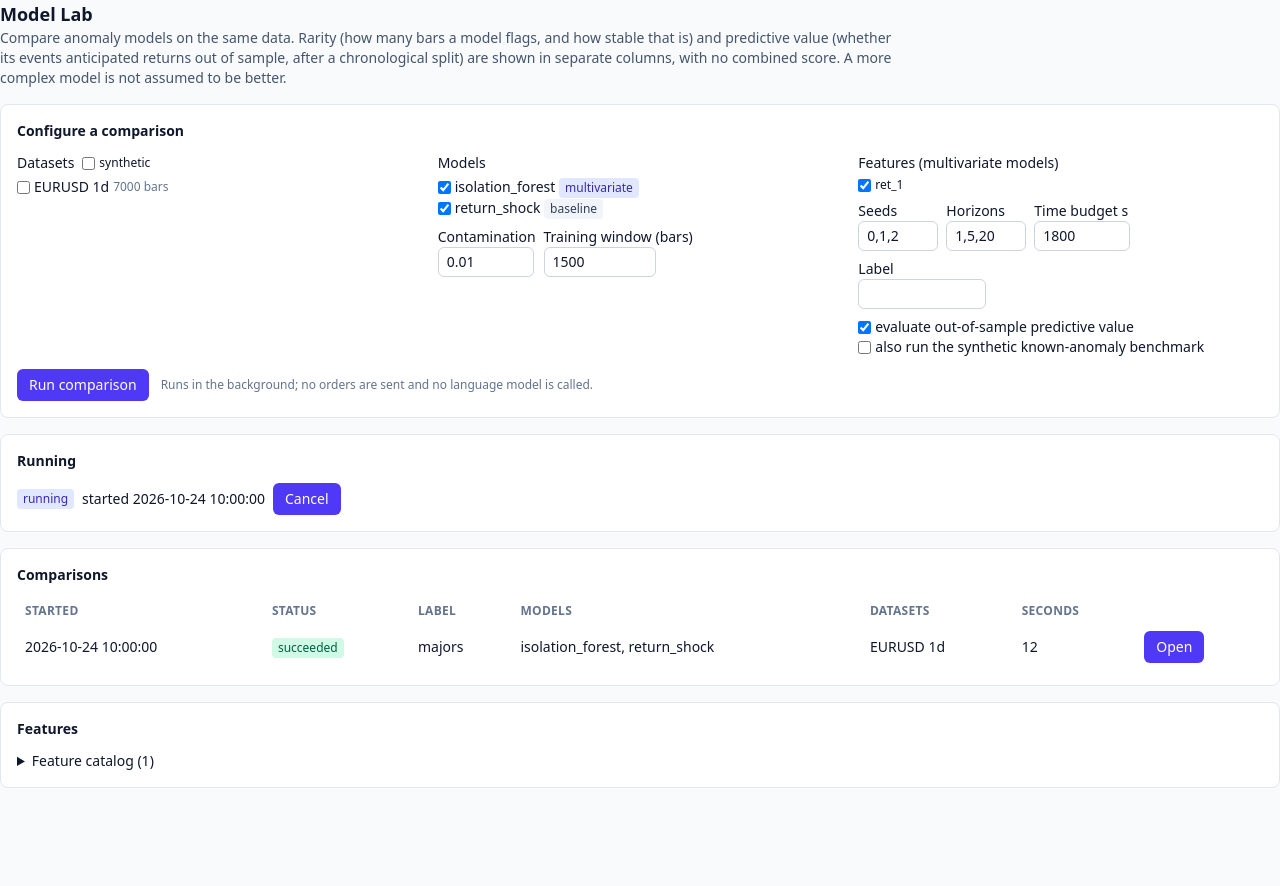
Test: Model Lab › shows rarity, stability and out-of-sample evidence side by side, without a combined score
Click the button "Open": (1174, 647) [1144, 631, 1204, 663]
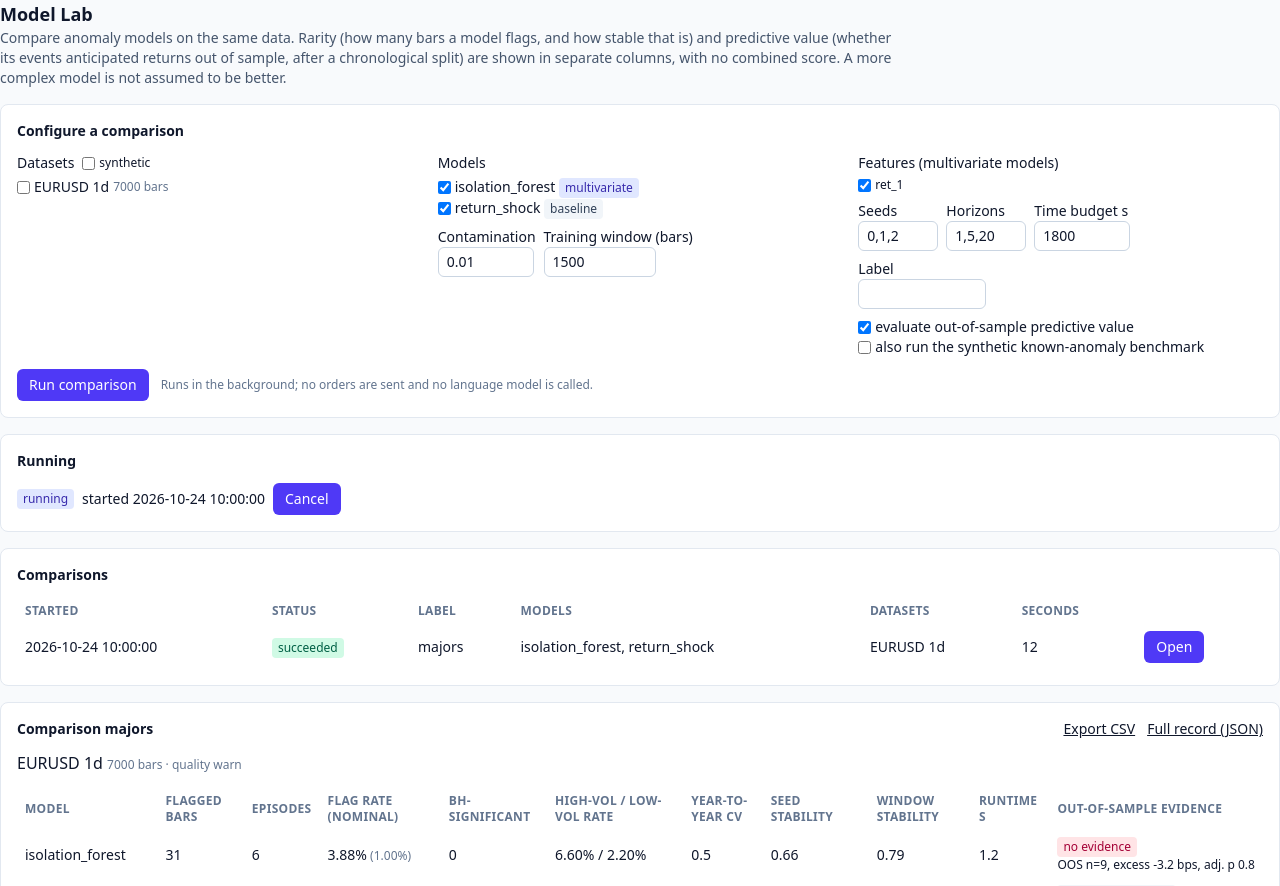
Result: the column heading "Out-of-sample evidence" is shown at [1049, 787, 1263, 831]
Result: the column heading "Flagged bars" is shown at [158, 787, 244, 831]
Result: the column heading "Episodes" is shown at [244, 787, 320, 831]
